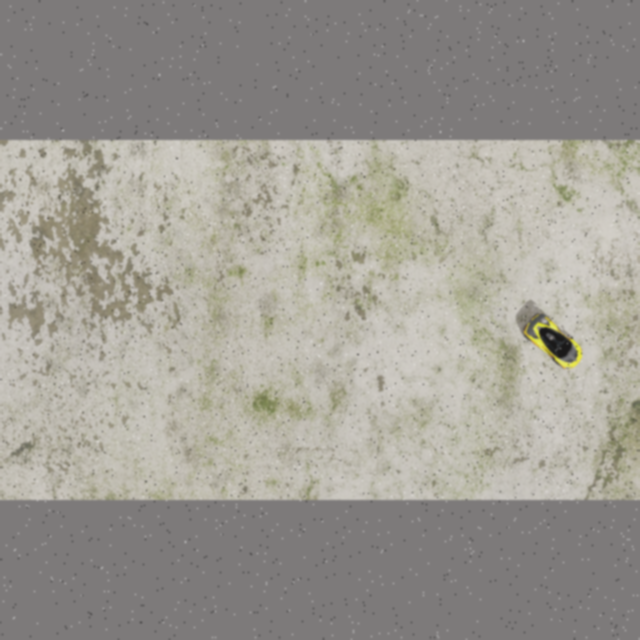car: (516, 309, 593, 376)
